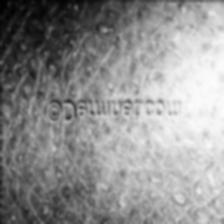Non-Cancerous Skin Condition: (92, 0, 186, 77), (0, 99, 41, 224)
